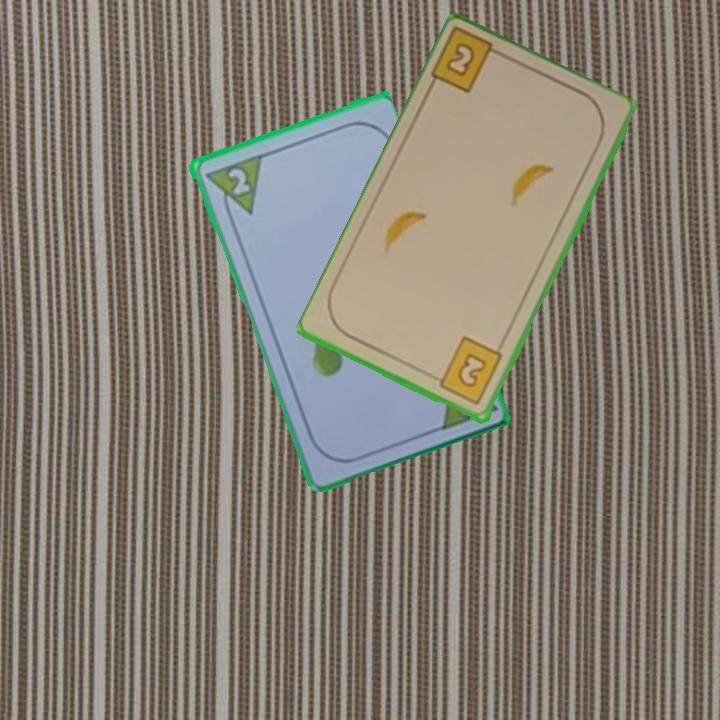2b: (428, 27, 511, 97), (428, 334, 506, 408)
2p: (223, 164, 253, 198)
